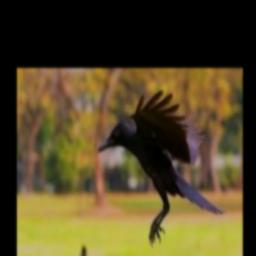Crow: (98, 90, 226, 248)
